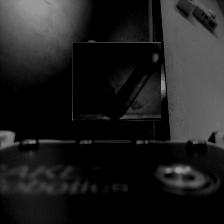Door Handle: (75, 39, 158, 124)
